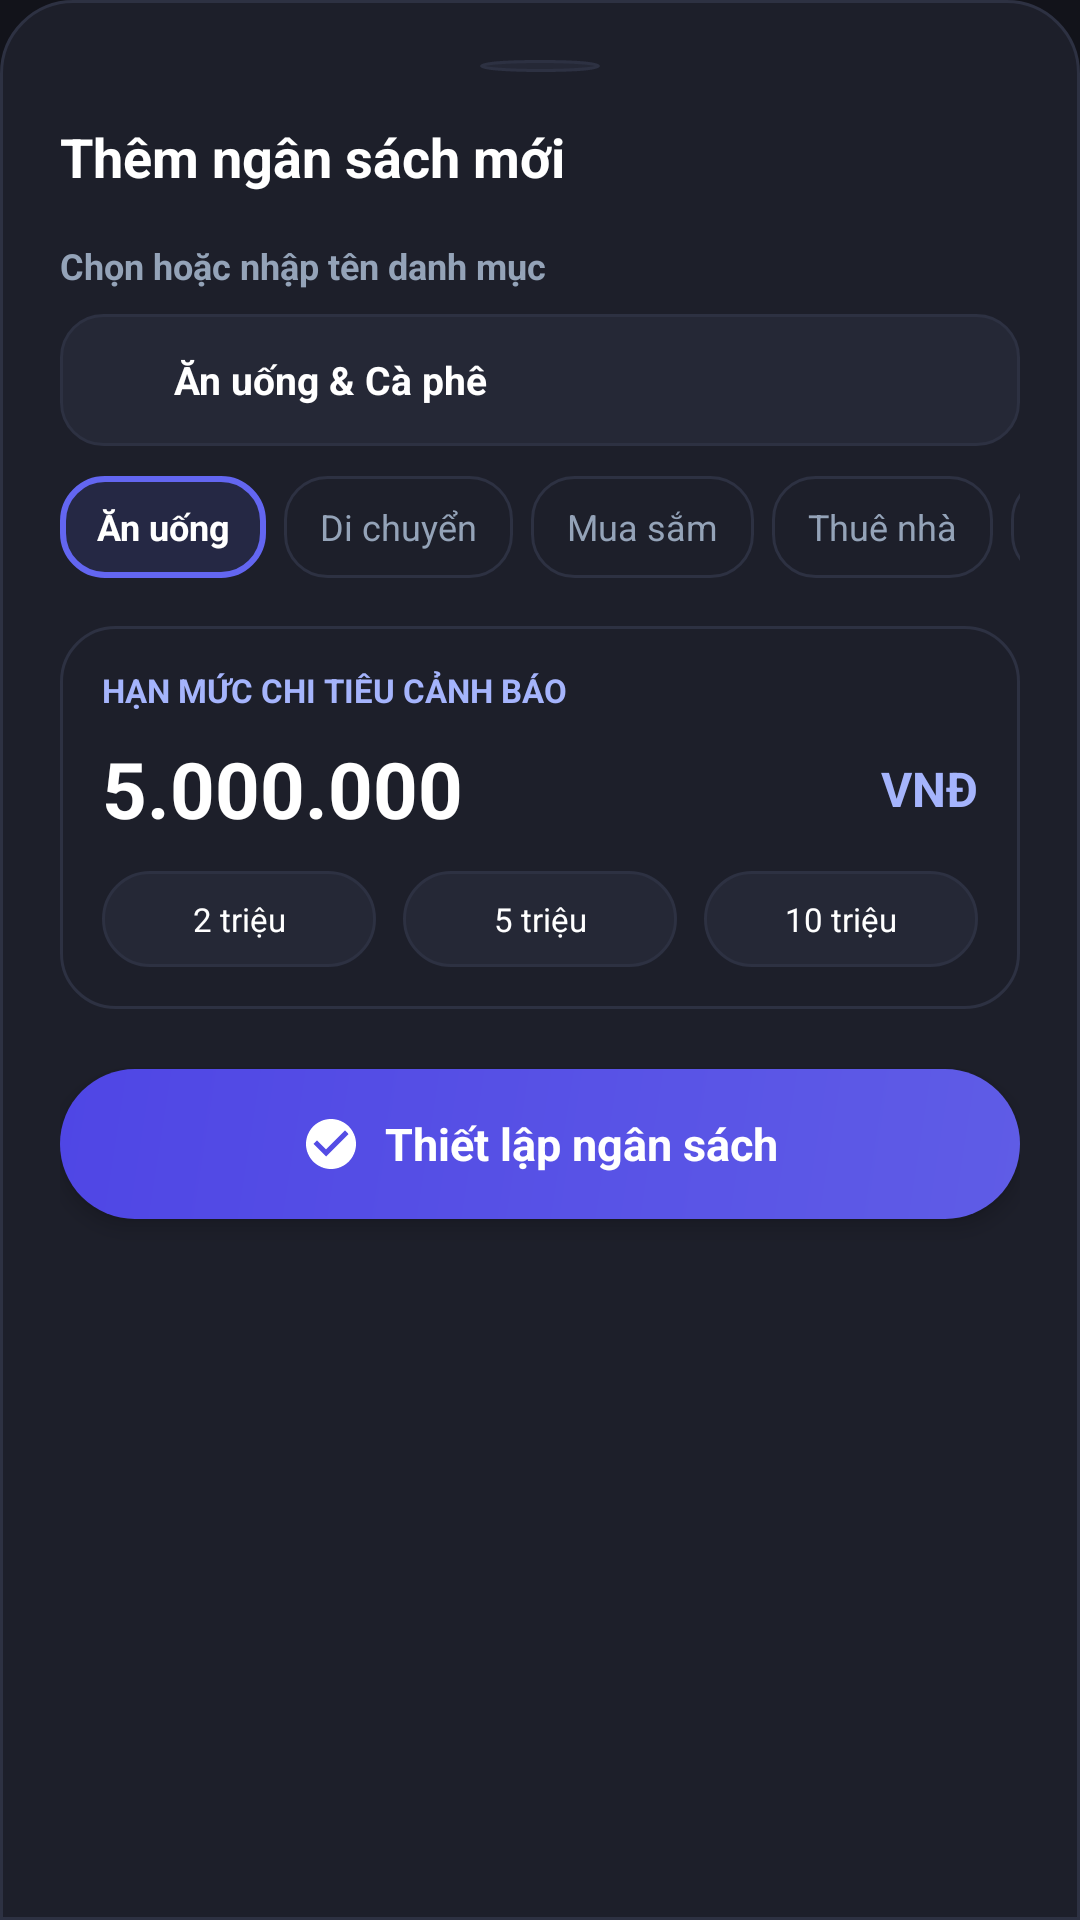

Named icons in this screenshot (1080 × 1920) and their centers, point (x, y):
Check: point (331, 1144)
